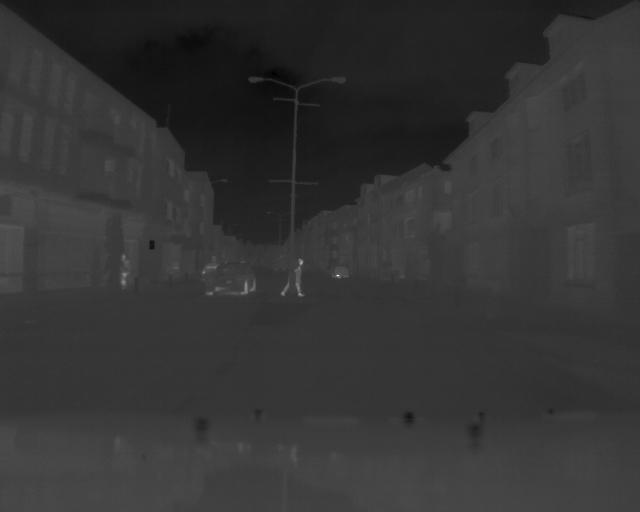car: (216, 260, 259, 295), (330, 263, 351, 281), (202, 260, 215, 273)
person: (283, 255, 303, 297), (119, 251, 134, 289)
